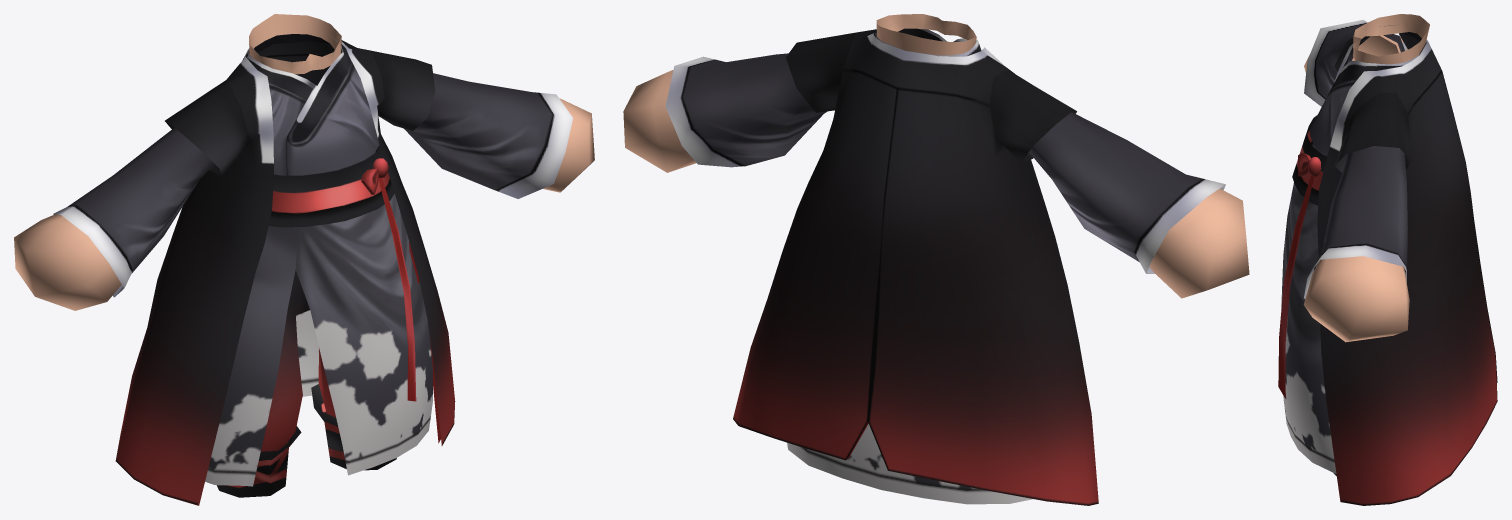
The model's file is armor_reaper_s durumagi.FBX.
3 views of the same model, side by side, from view 1: azimuth 30°, elevation 25°; view 2: azimuth 150°, elevation 25°; view 3: azimuth 270°, elevation 25° (orthographic). The views are drawn at different scales.
Visible parts, largest first — view 1: Object005; view 2: Object005; view 3: Object005.
Part boxes in pixels (<box>): Object005: <box>14,14,594,505</box>; Object005: <box>623,14,1249,505</box>; Object005: <box>1278,14,1497,505</box>.
Size of the model in its own units: 170 by 124 by 58.32.
